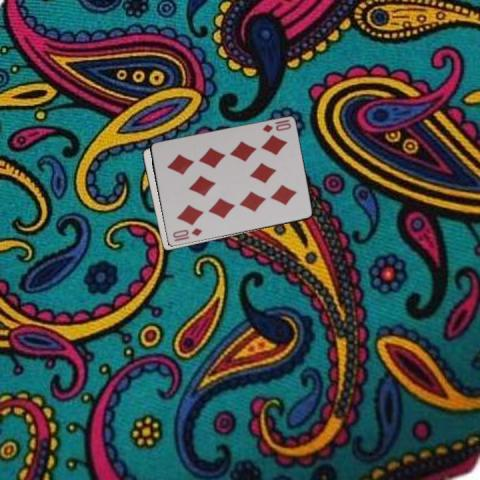10d: (259, 117, 292, 134), (170, 226, 204, 240)
